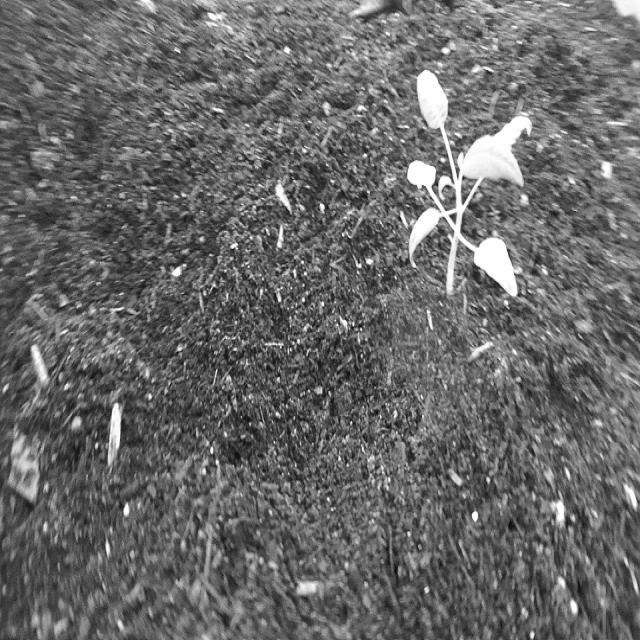Healthy: (401, 64, 536, 309)
